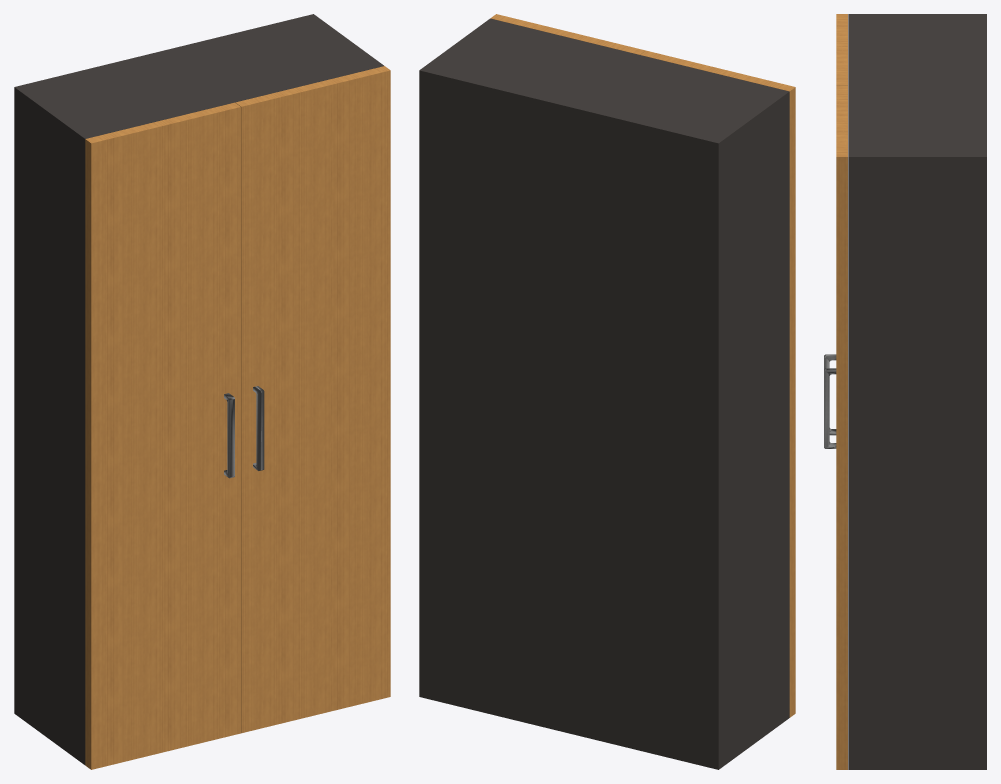
Rendered from storage.glb.
The picture shows the model from 3 angles, left to right: view 1: azimuth 30°, elevation 25°; view 2: azimuth 150°, elevation 25°; view 3: azimuth 270°, elevation 25°; orthographic projection. The views are drawn at different scales.
Parts seen in each view (by area): view 1: Cupboard 900 450 1800 mm; view 2: Cupboard 900 450 1800 mm; view 3: Cupboard 900 450 1800 mm.
Boxes of the visible parts, x1,y1,x2,y2 form: Cupboard 900 450 1800 mm: [14, 14, 390, 769]; Cupboard 900 450 1800 mm: [419, 14, 795, 769]; Cupboard 900 450 1800 mm: [824, 14, 986, 769].
Bounding box in the file's own units: 0.9002 × 1.8 × 0.4335.
1 material, 1 textured.
